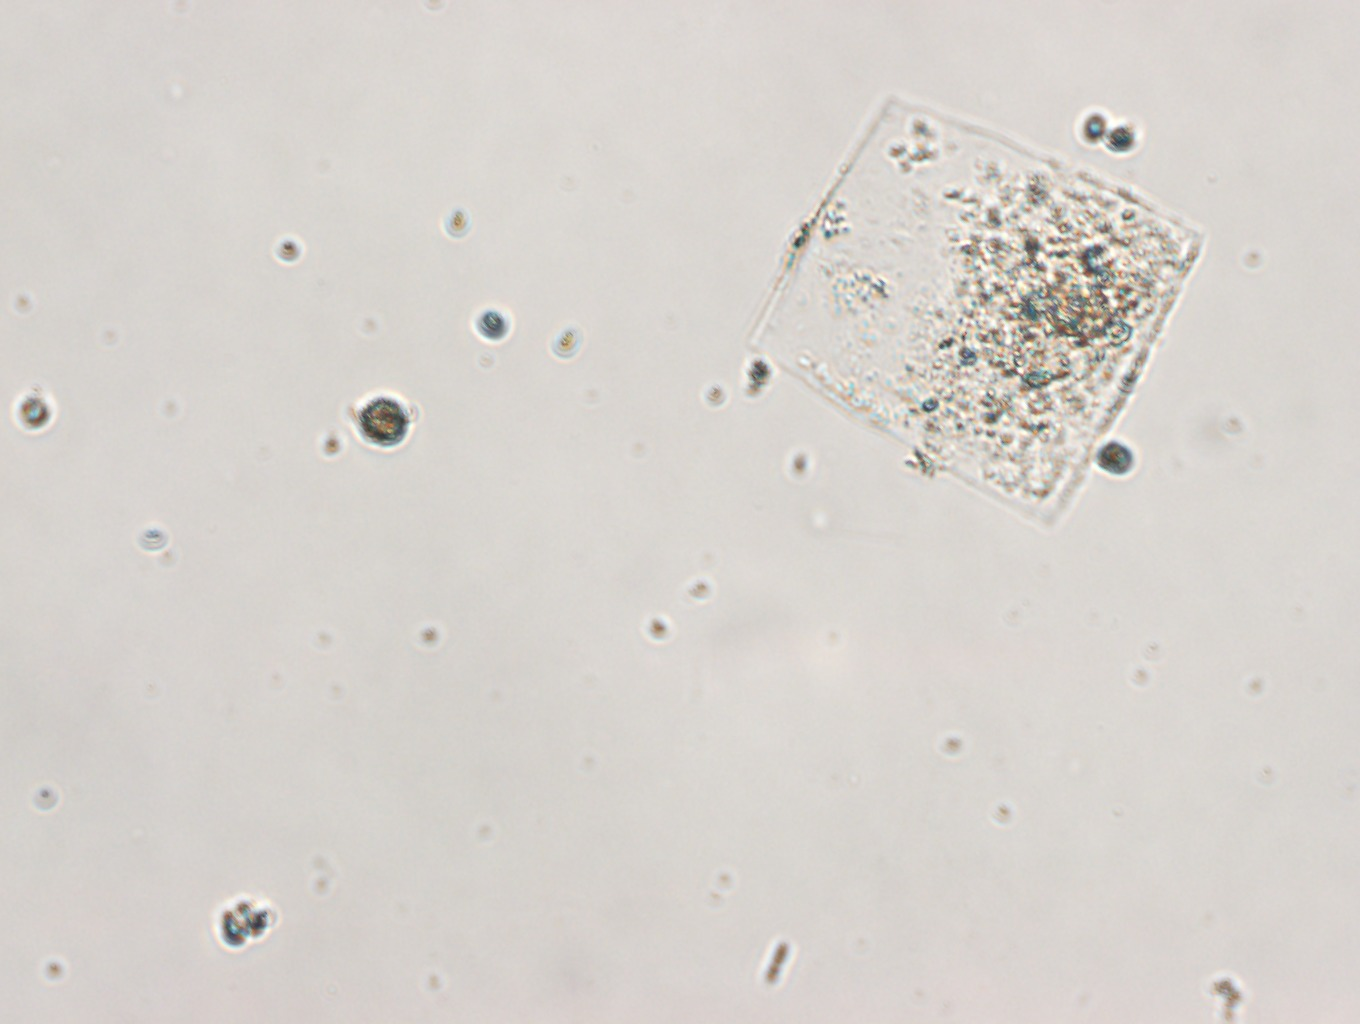helicotheca: (739, 88, 1206, 530)
